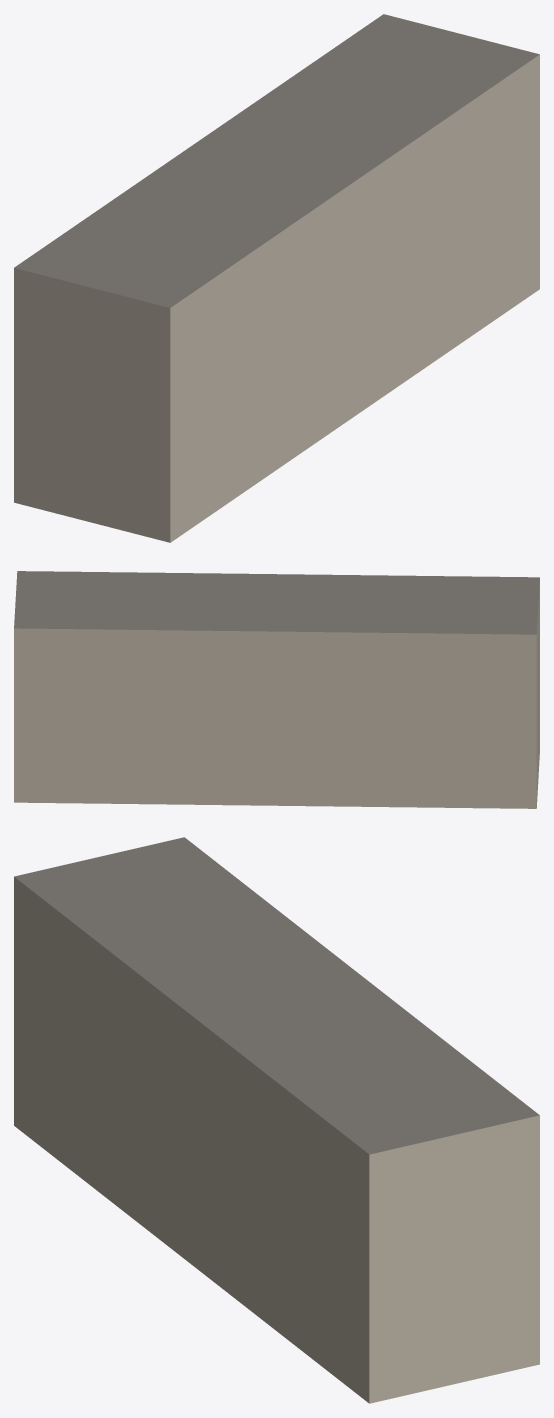
3 renders of one model, top to bottom at view 1: azimuth 30°, elevation 25°; view 2: azimuth 150°, elevation 25°; view 3: azimuth 270°, elevation 25°, orthographic. The views are drawn at different scales.
Visible parts, largest first — view 1: HP-w369237901; view 2: HP-w369237901; view 3: HP-w369237901.
Boxes of the visible parts, x1=… form: HP-w369237901: x1=14, y1=14, x2=539, y2=542; HP-w369237901: x1=14, y1=571, x2=539, y2=808; HP-w369237901: x1=14, y1=837, x2=539, y2=1403.
Size of the model in its own units: 49.18 by 18 by 34.44.
